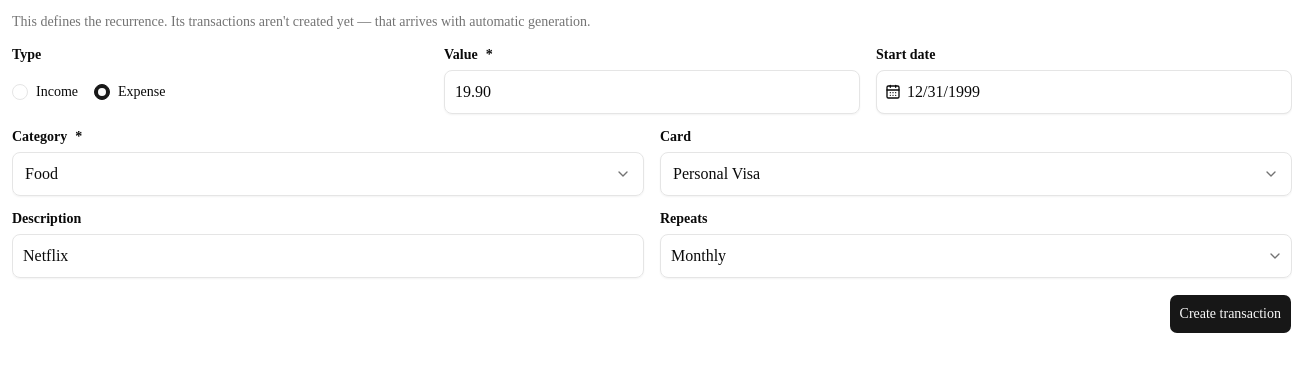
Test: RecurringTransactionForm › shows the schema's message when the start date is out of range
Click the button "Create transaction": coordinates (1230, 314) [1168,294,1292,334]
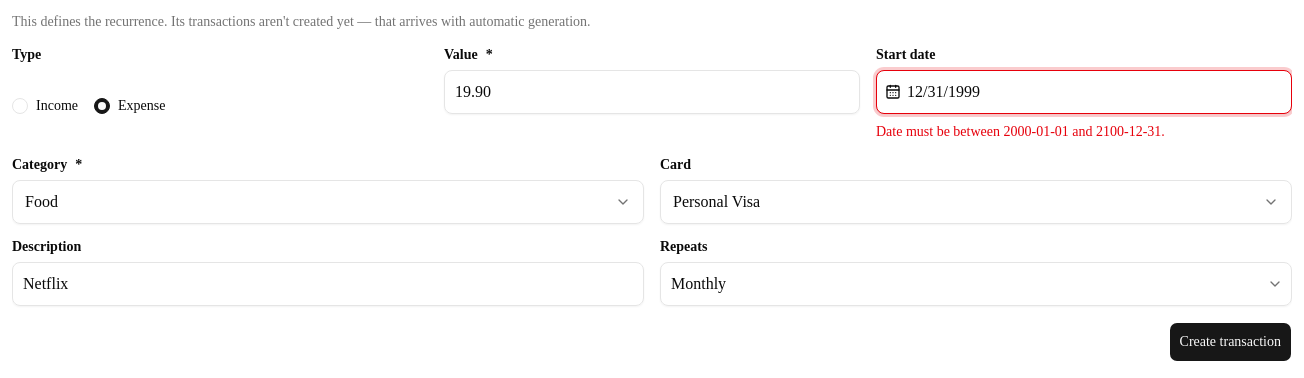
Result: the text "Date must be between 2000-01-01 and 2100-12-31." is shown at [876,124,1165,139]
